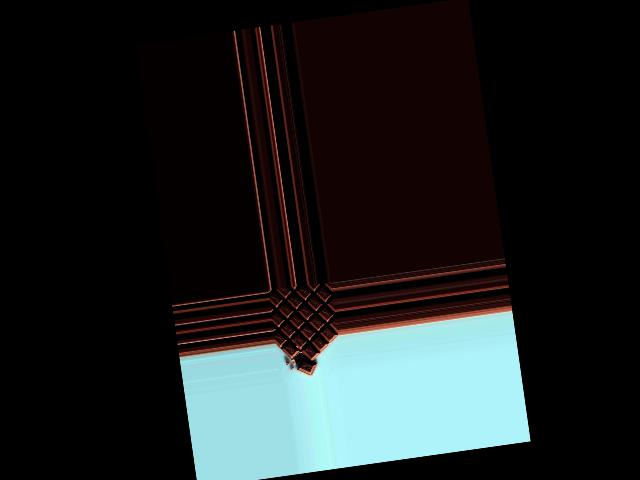chocolate: (268, 281, 339, 370)
